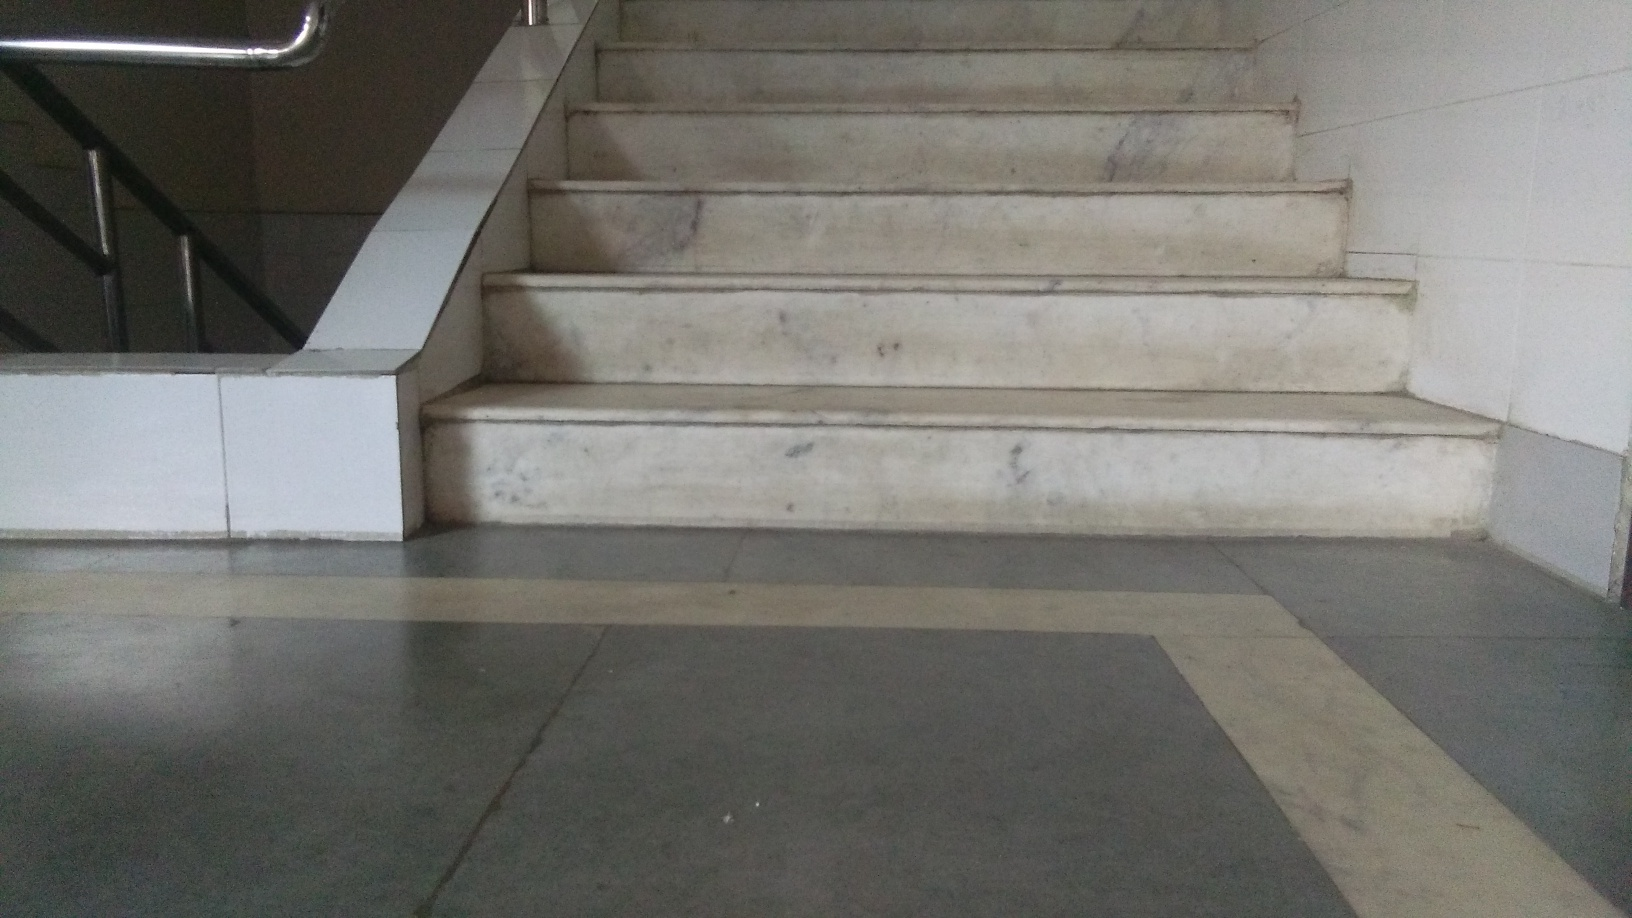stairs_up: (414, 31, 1497, 562)
